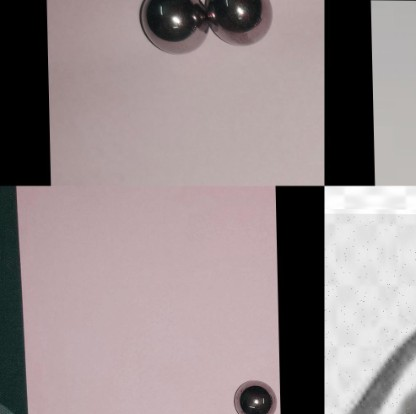ironball: (324, 212, 415, 413), (130, 0, 215, 58), (204, 0, 286, 49), (227, 373, 277, 412)
